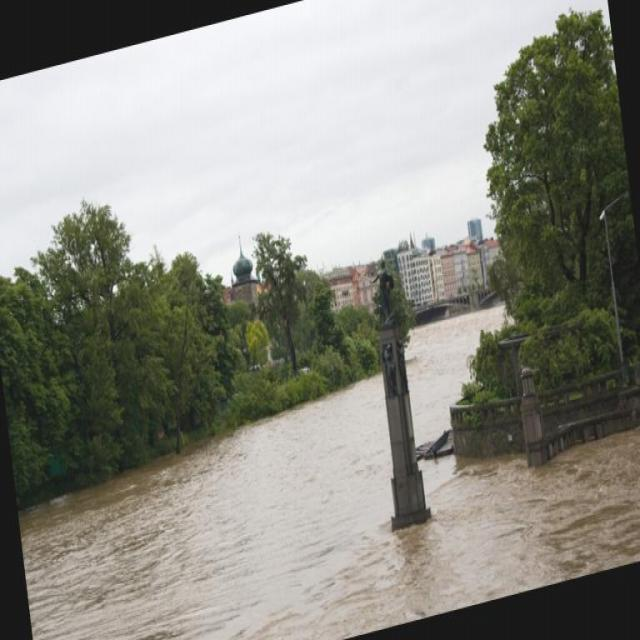flood: (9, 264, 640, 639)
